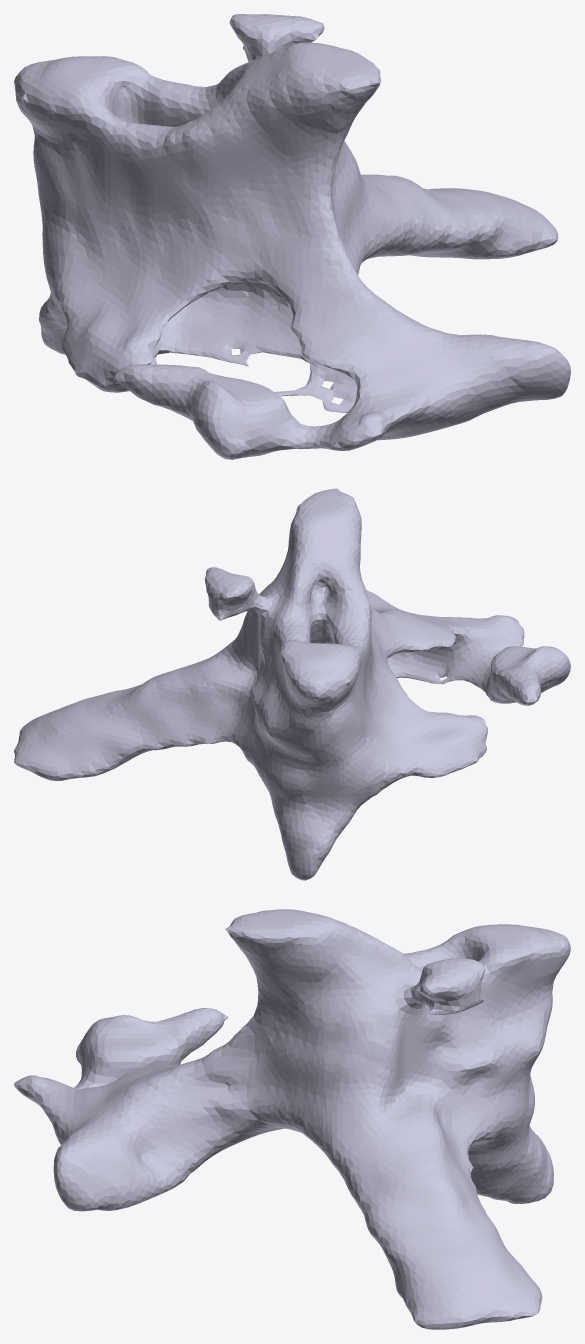
Rendered from Darch2.glb.
The picture shows the model from 3 angles, top to bottom: view 1: azimuth 30°, elevation 25°; view 2: azimuth 150°, elevation 25°; view 3: azimuth 270°, elevation 25°; orthographic projection. The views are drawn at different scales.
Visible parts, largest first — view 1: Darch2; view 2: Darch2; view 3: Darch2.
Boxes of the visible parts, x1,y1,x2,y2 form: Darch2: (14,14,570,459); Darch2: (14,488,570,880); Darch2: (14,909,570,1329).
Size of the model in its own units: 0.00523 by 0.00331 by 0.00507.
